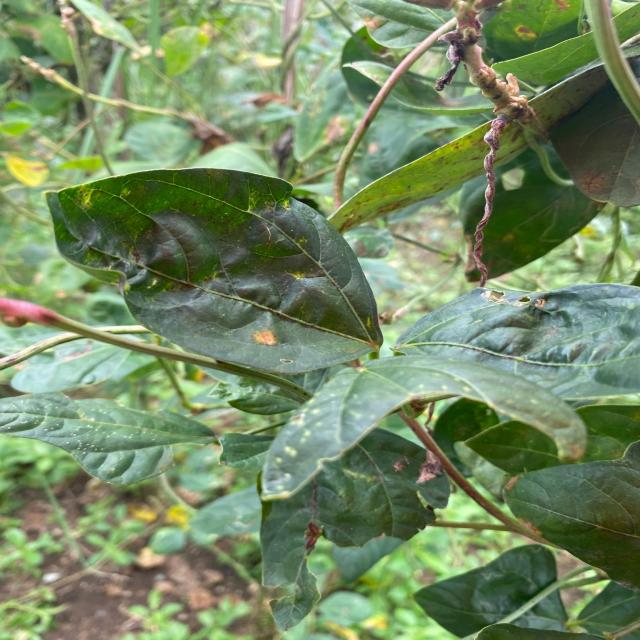sitaw-aphid-high: (268, 357, 587, 487), (396, 283, 640, 368), (0, 393, 214, 484), (504, 458, 640, 588)
sitaw-aphid-low: (46, 168, 382, 372)
